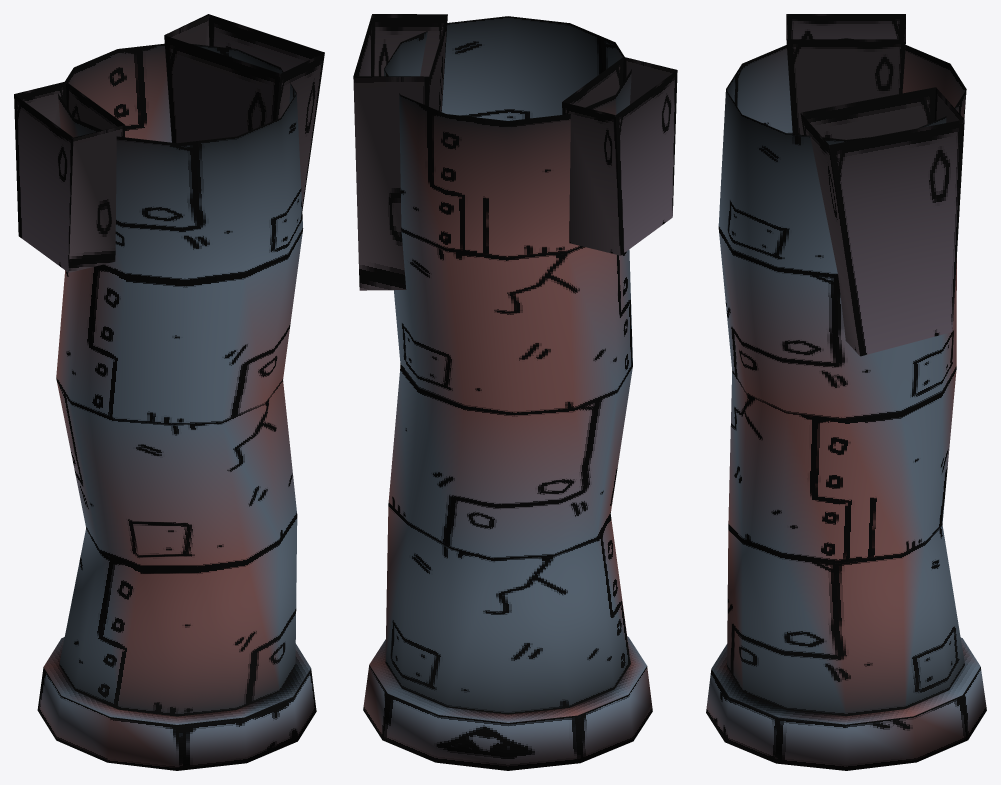
File: BigTubePipe.glb
3 renders of one model, left to right at view 1: azimuth 30°, elevation 25°; view 2: azimuth 150°, elevation 25°; view 3: azimuth 270°, elevation 25°, orthographic. The views are drawn at different scales.
Visible parts, largest first — view 1: Cylinder; view 2: Cylinder; view 3: Cylinder.
Part boxes in pixels (box(x1,y1,x2,y2)): Cylinder: box(14, 14, 324, 770); Cylinder: box(353, 14, 677, 770); Cylinder: box(706, 14, 986, 770).
Size of the model in its own units: 2.84 by 6.35 by 2.52.
1 material, 1 textured.
